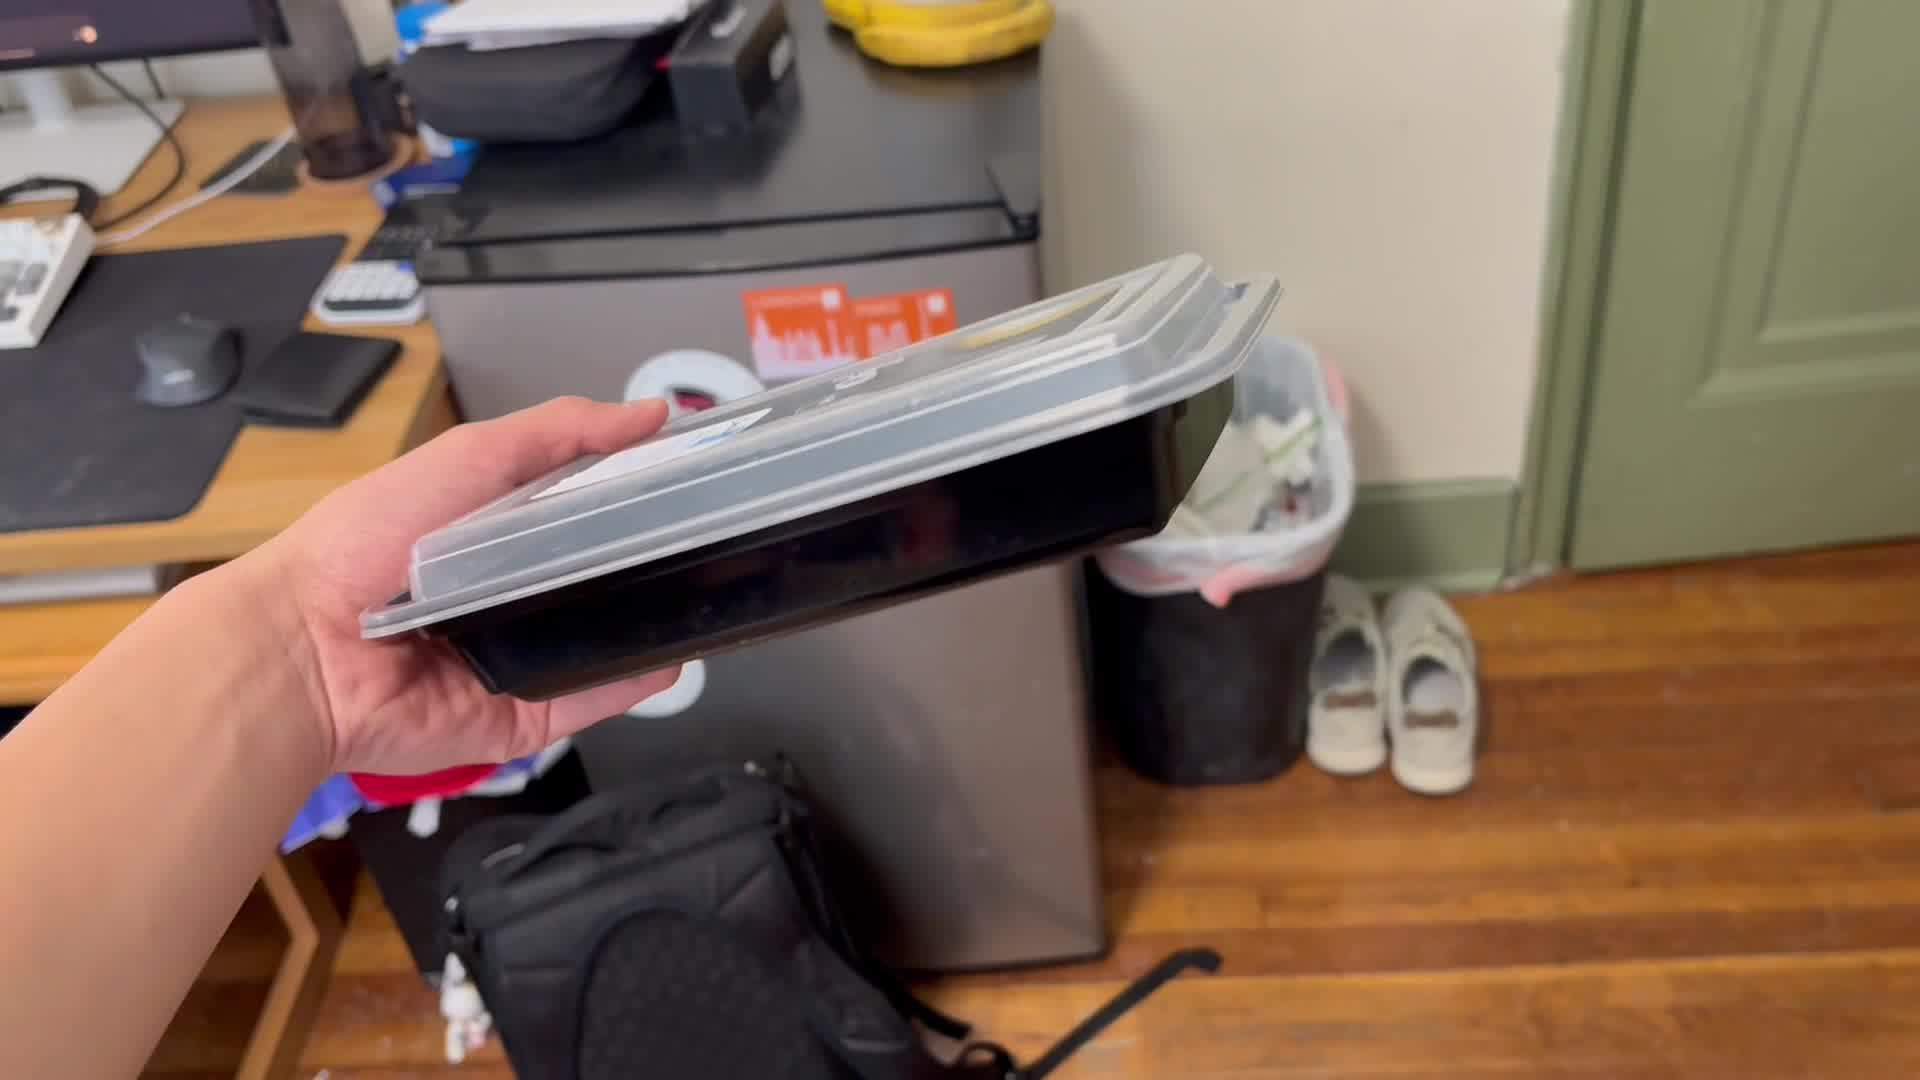lp_cup_lids: (364, 249, 1292, 699)
